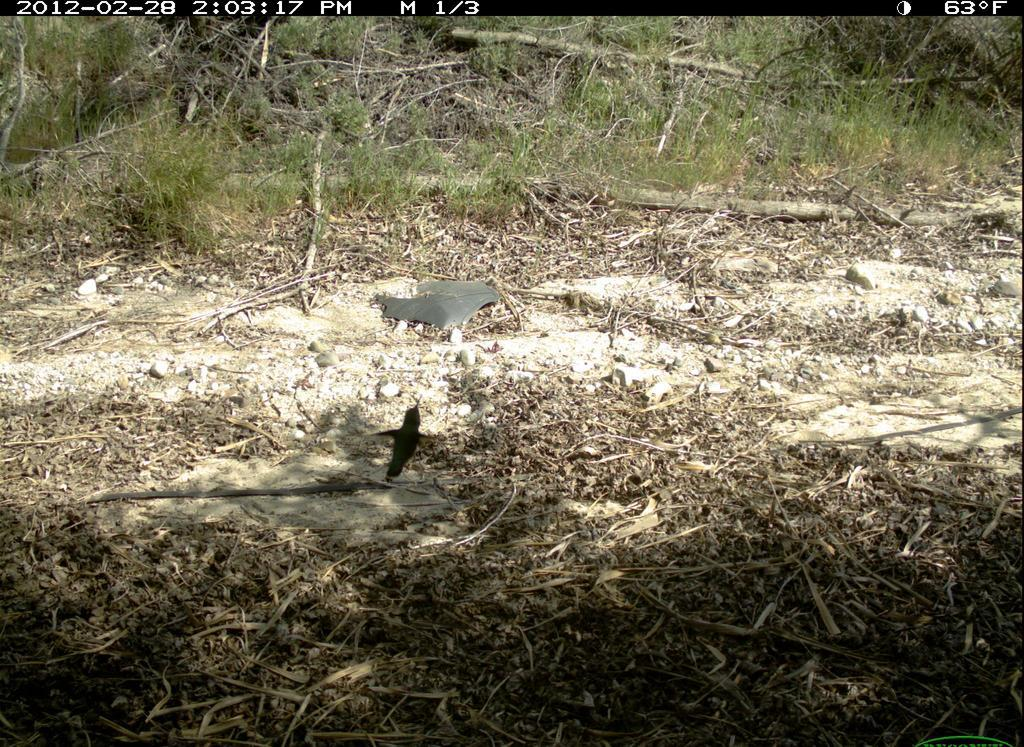bird: (369, 391, 446, 489)
